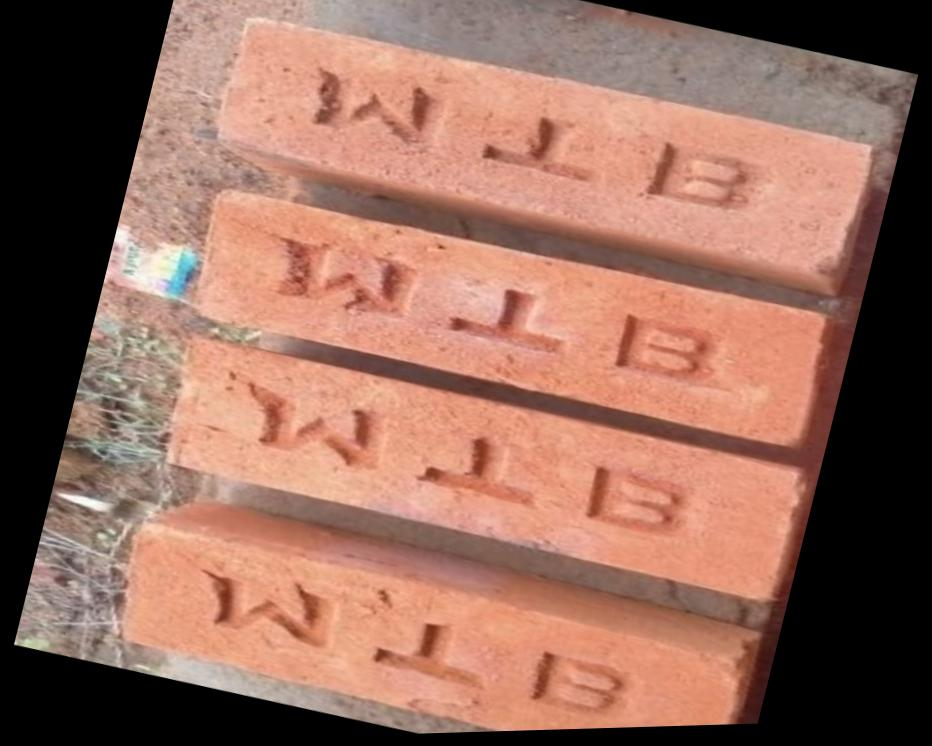brick: (210, 0, 882, 298), (159, 316, 812, 621), (190, 161, 832, 462), (115, 501, 750, 743)
